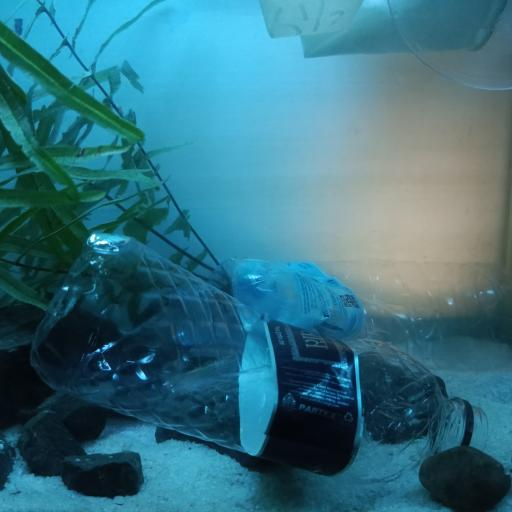glove: (259, 0, 506, 59)
plastic_bottle: (28, 230, 488, 486), (173, 258, 512, 370)
plastic_cup: (386, 0, 511, 90)
